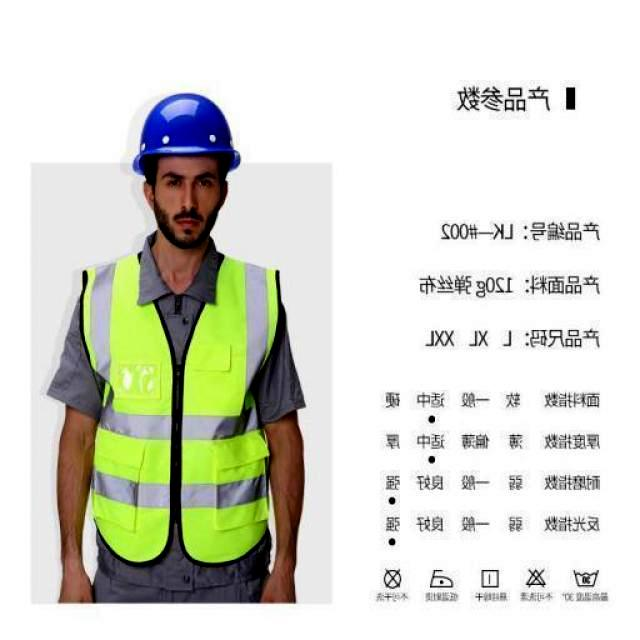hard_hat: (132, 94, 239, 174)
person: (48, 155, 304, 601)
